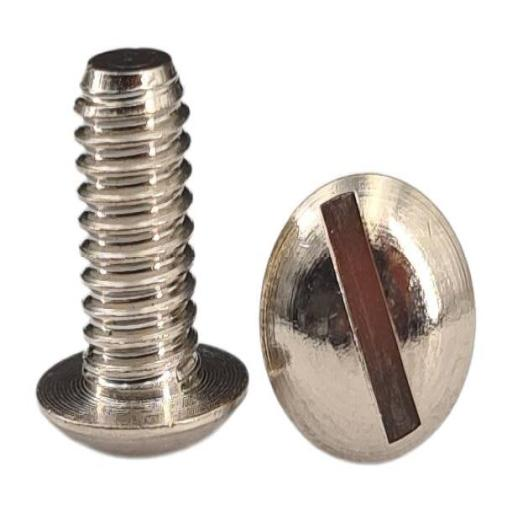Slotted: (260, 170, 475, 464)
